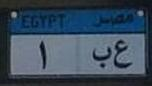1: (38, 39, 48, 69)
ain: (113, 38, 131, 71)
baa: (92, 46, 111, 68)
